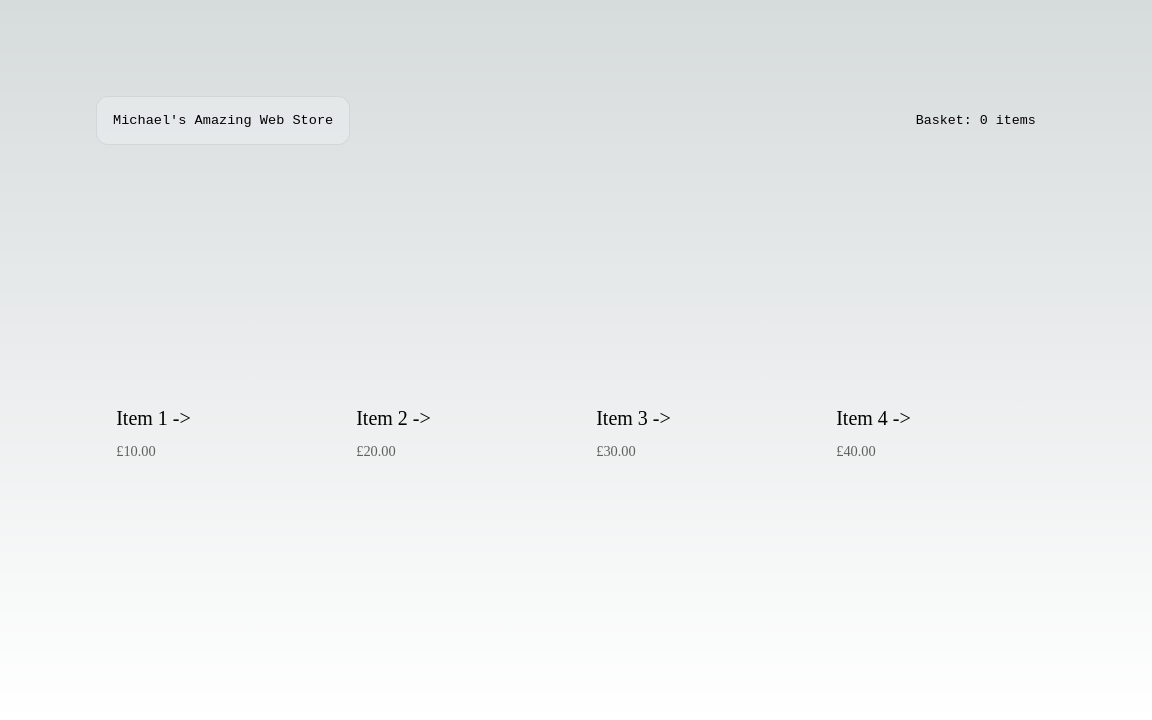
Test case: Home › renders a basket with 1 of item 1 and 2 of item 2
Click the button with aria-label "Add to basket" at (216, 435), box 96,390 -> 336,480
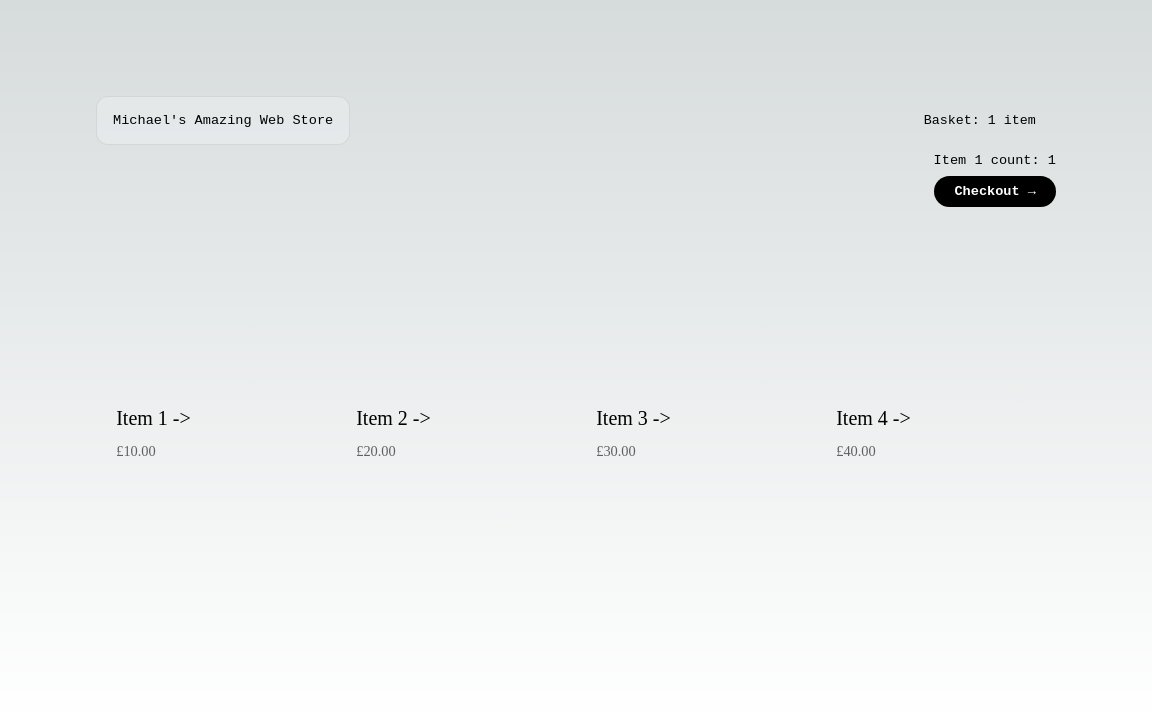
Click the button with aria-label "Add to basket" at (456, 435), box 336,390 -> 576,480
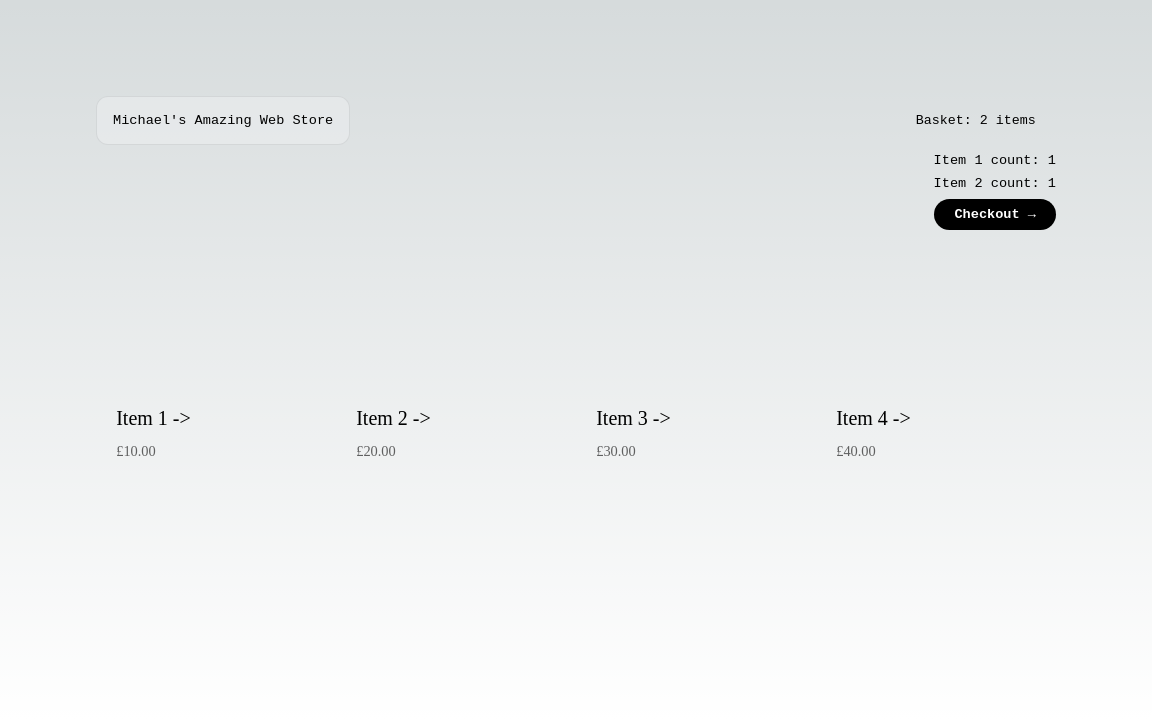
Click the button with aria-label "Add to basket" at (456, 435), box 336,390 -> 576,480
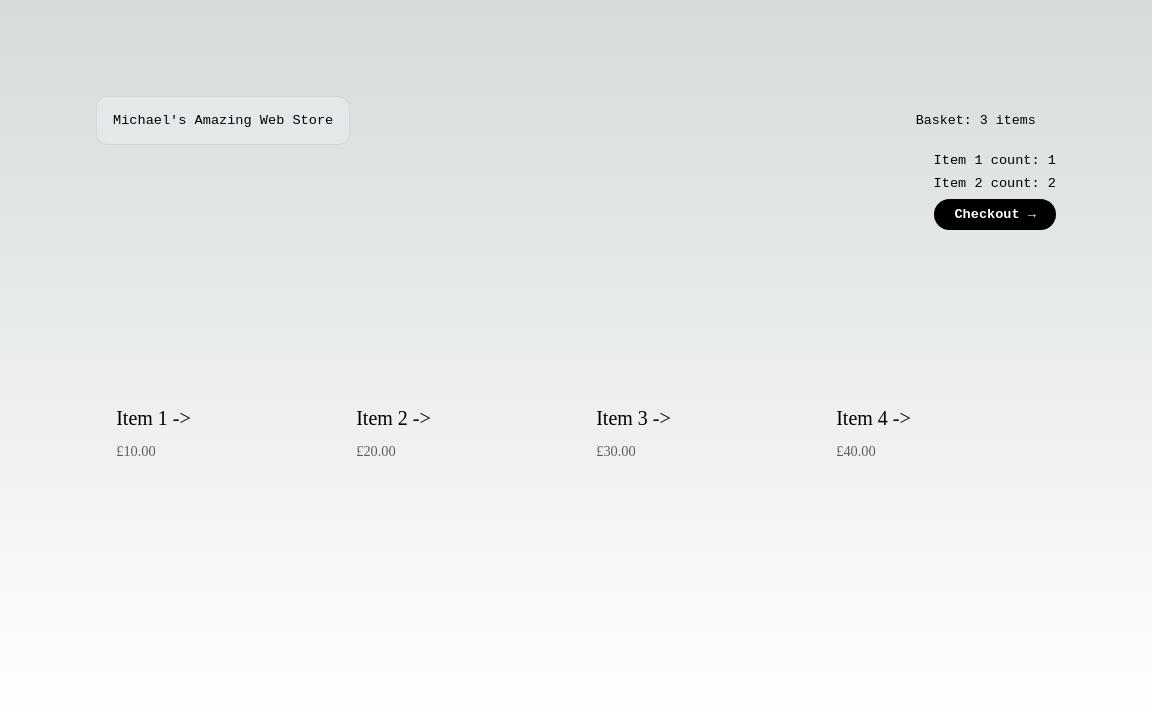
Expected: the element with test id "item-count-1" reads "Item 1 count: 1", 934,153 -> 1056,168
Expected: the button "Basket: 3 items" is shown, 896,96 -> 1056,145
Expected: the element with test id "item-count-2" reads "Item 2 count: 2", 934,176 -> 1056,191
